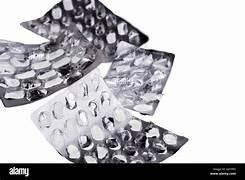pill_Strip: (31, 70, 187, 162), (0, 34, 103, 106), (0, 36, 105, 106), (21, 0, 147, 56), (104, 47, 174, 114)
